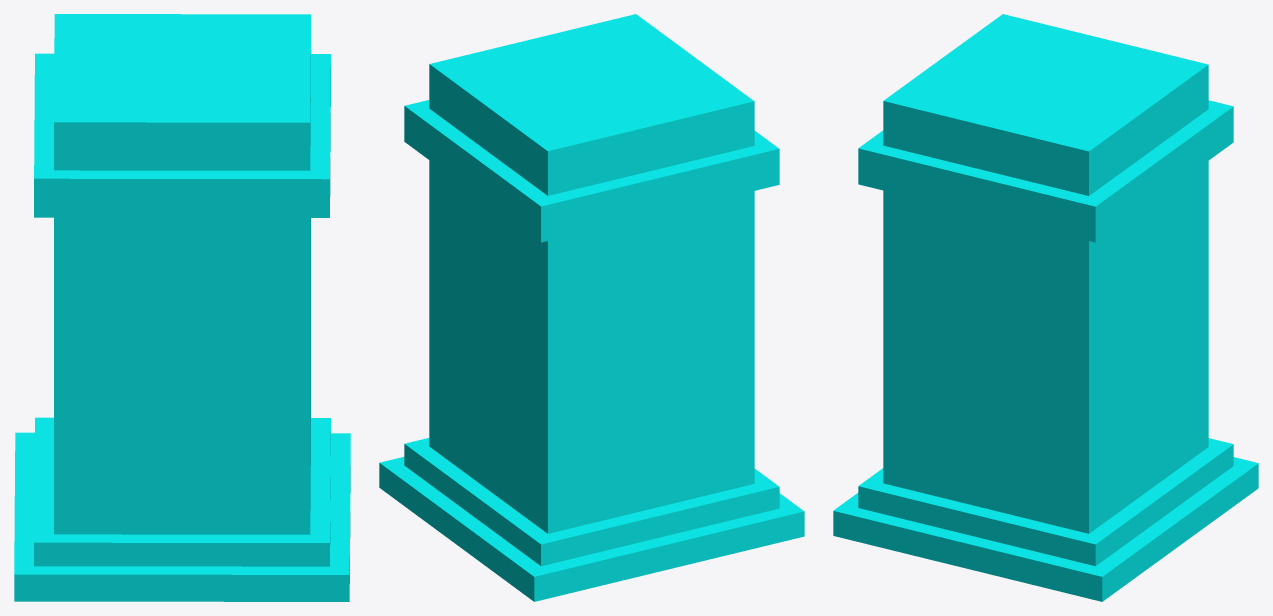
The model's file is InsideColumnPost.FBX.
3 renders of one model, left to right at view 1: azimuth 30°, elevation 25°; view 2: azimuth 150°, elevation 25°; view 3: azimuth 270°, elevation 25°, orthographic. The views are drawn at different scales.
Parts seen in each view (by area): view 1: InsideRail; view 2: InsideRail; view 3: InsideRail.
Part boxes in pixels (bbox=[...]): InsideRail: bbox=[14, 14, 350, 601]; InsideRail: bbox=[379, 14, 804, 601]; InsideRail: bbox=[833, 14, 1258, 601].
Bounding box in the file's own units: 178 × 178 × 198.
